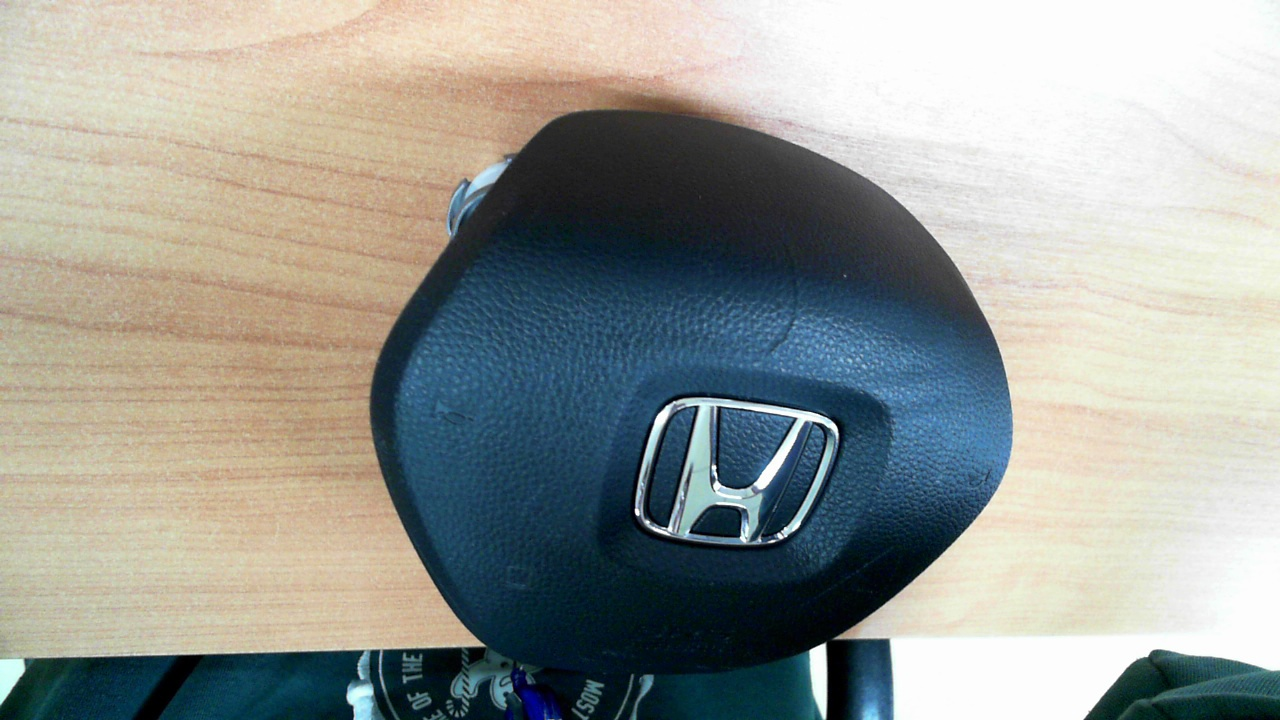Airbag: (368, 109, 1015, 673)
Honda: (634, 397, 840, 546)
